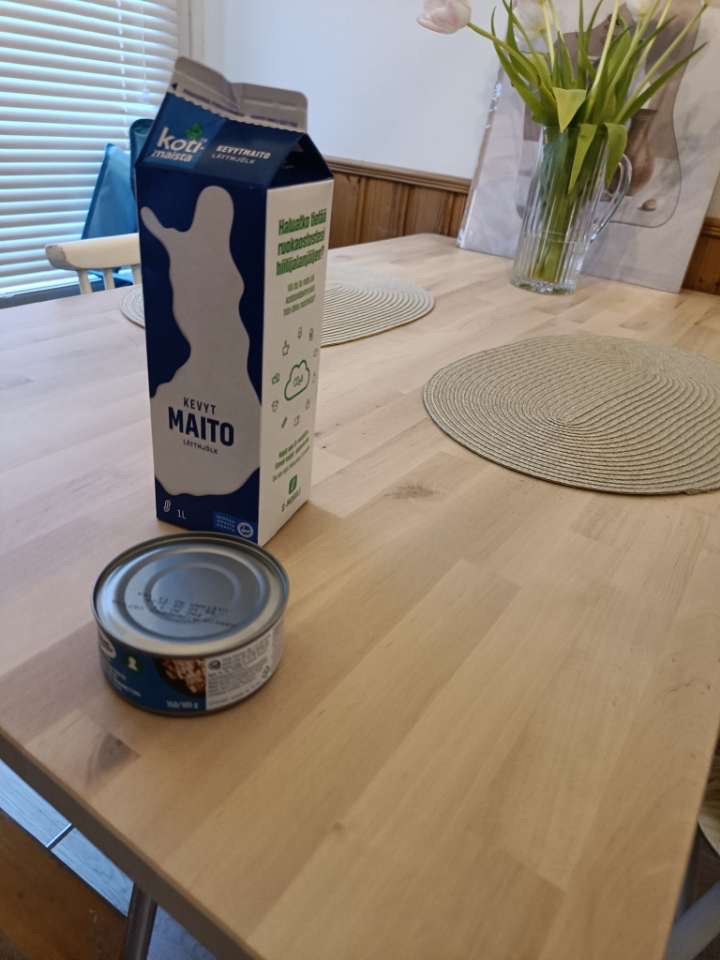Dryckeskartong: (136, 55, 336, 546)
Konservburk: (91, 531, 292, 727)
